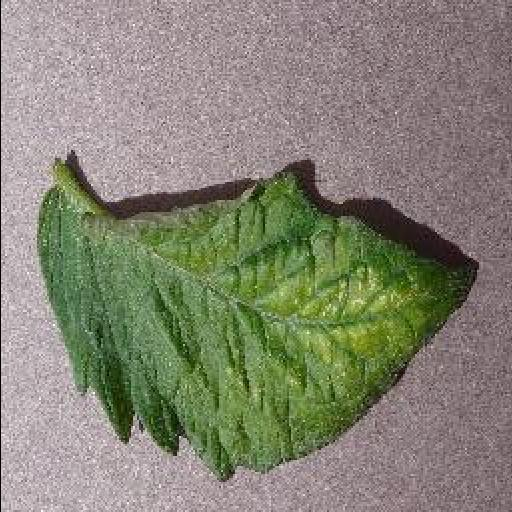disease_tomato: (39, 174, 453, 482)
